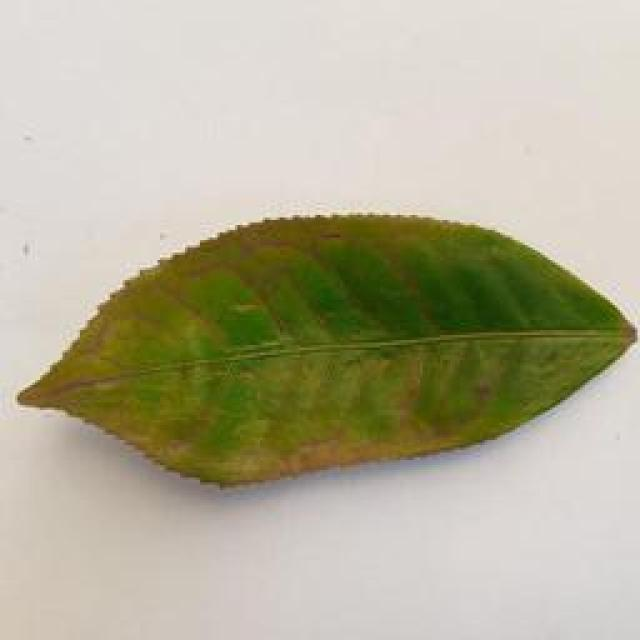Red Leaf Spot: (14, 185, 640, 491)
